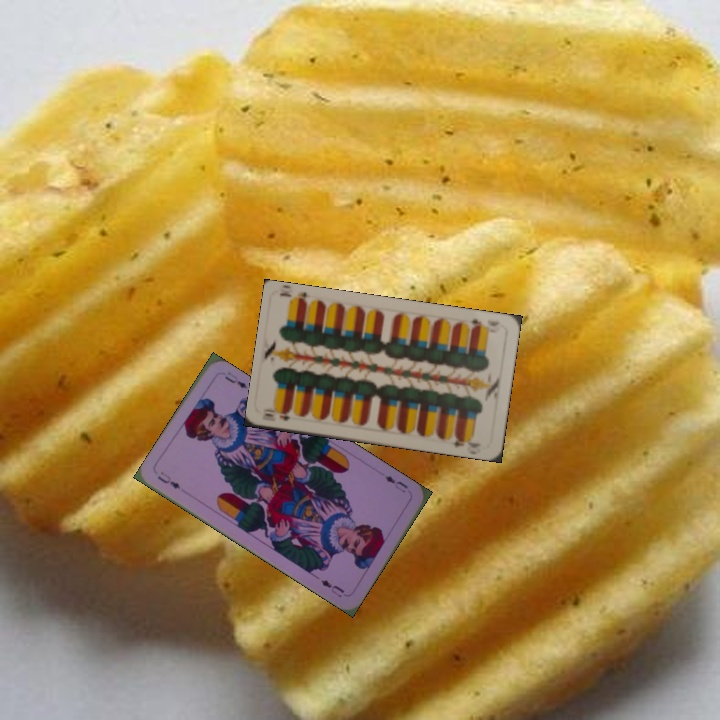E10: (261, 405, 292, 423), (467, 314, 491, 333)
EU: (153, 467, 183, 492), (380, 472, 411, 495)
